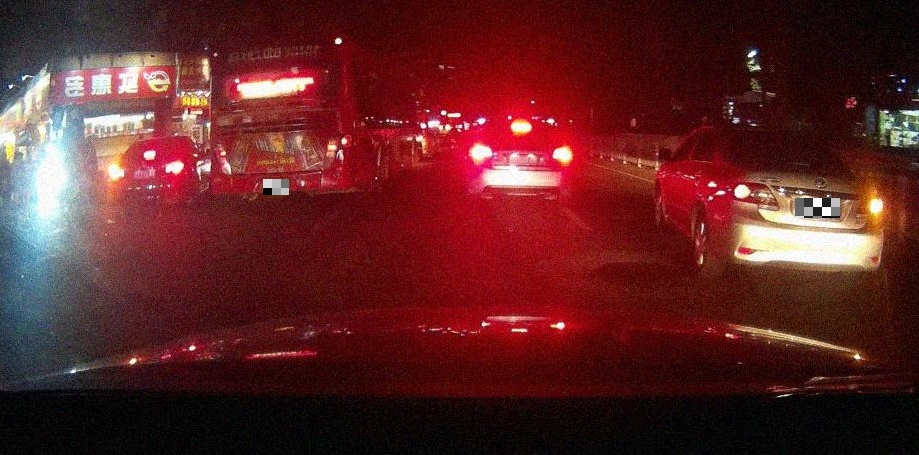L_light: (727, 180, 780, 211), (212, 143, 233, 175), (468, 143, 493, 160), (107, 164, 126, 180)
R_light: (320, 133, 342, 170), (855, 192, 883, 214), (553, 146, 571, 165), (164, 160, 184, 176)
T_light: (250, 91, 283, 98), (510, 125, 532, 132), (141, 150, 155, 159), (766, 131, 791, 136)
night-brake: (466, 116, 572, 202)
night-left: (106, 134, 193, 206)
night-no: (209, 25, 354, 198)
night-right: (718, 126, 885, 284)
plate_1: (263, 179, 289, 195)
plate_2: (795, 198, 840, 218)
